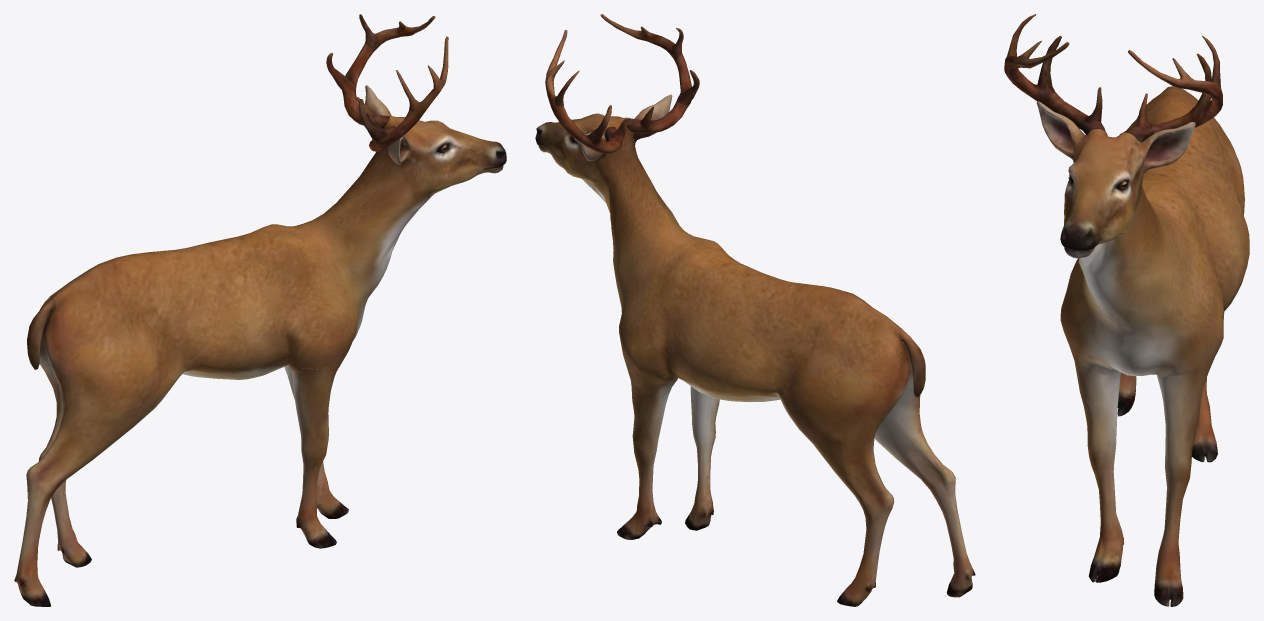
The model's file is deer.glb.
3 views of the same model, side by side, from view 1: azimuth 30°, elevation 25°; view 2: azimuth 150°, elevation 25°; view 3: azimuth 270°, elevation 25° (orthographic). The views are drawn at different scales.
Parts seen in each view (by area): view 1: deer.002_Material_0; view 2: deer.002_Material_0; view 3: deer.002_Material_0.
Part boxes in pixels (bbox=[...]): deer.002_Material_0: bbox=[14, 14, 506, 606]; deer.002_Material_0: bbox=[535, 14, 975, 606]; deer.002_Material_0: bbox=[1004, 14, 1249, 606].
Bounding box in the file's own units: 4.62 × 4.63 × 1.71.
Materials: 1 (1 with a texture image).
